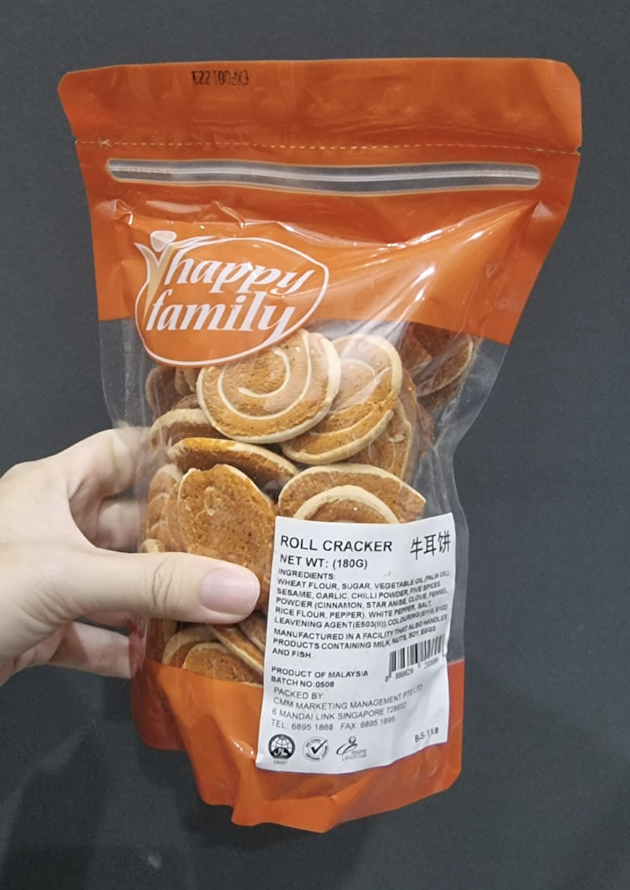Halal: (270, 737, 292, 755)
